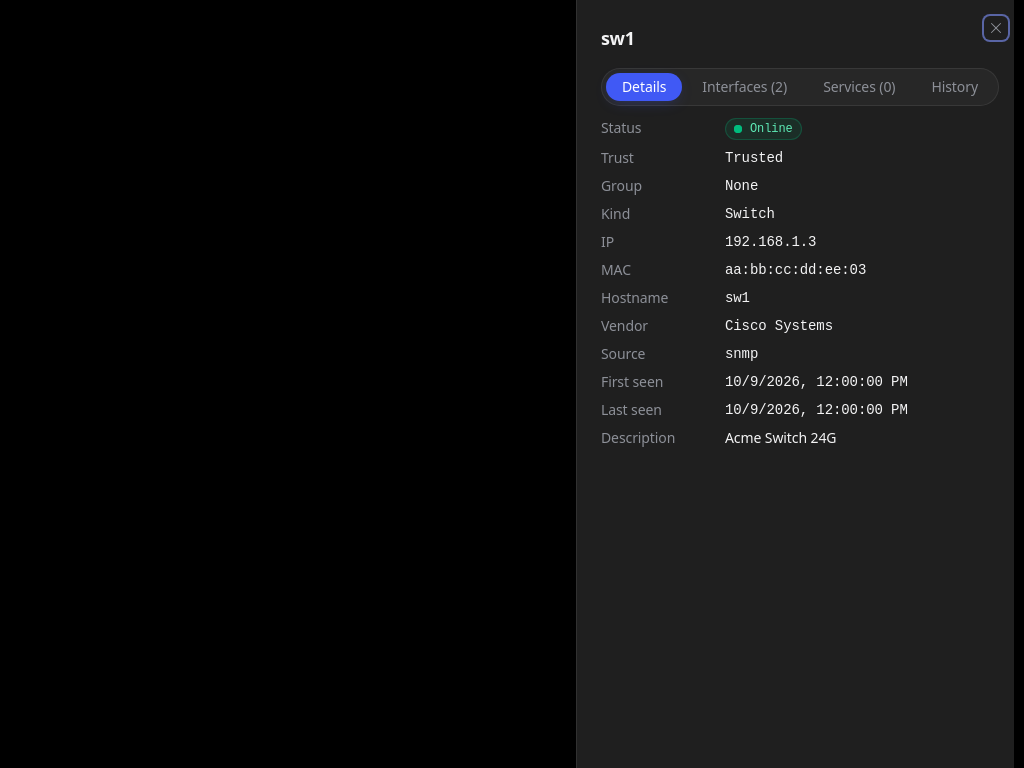
Test: DevicePanel › lists the interfaces with name, MAC, IP and state
The image size is (1024, 768).
Click the tab "Interfaces (2)".
click(745, 87)  # box [686,73,803,101]
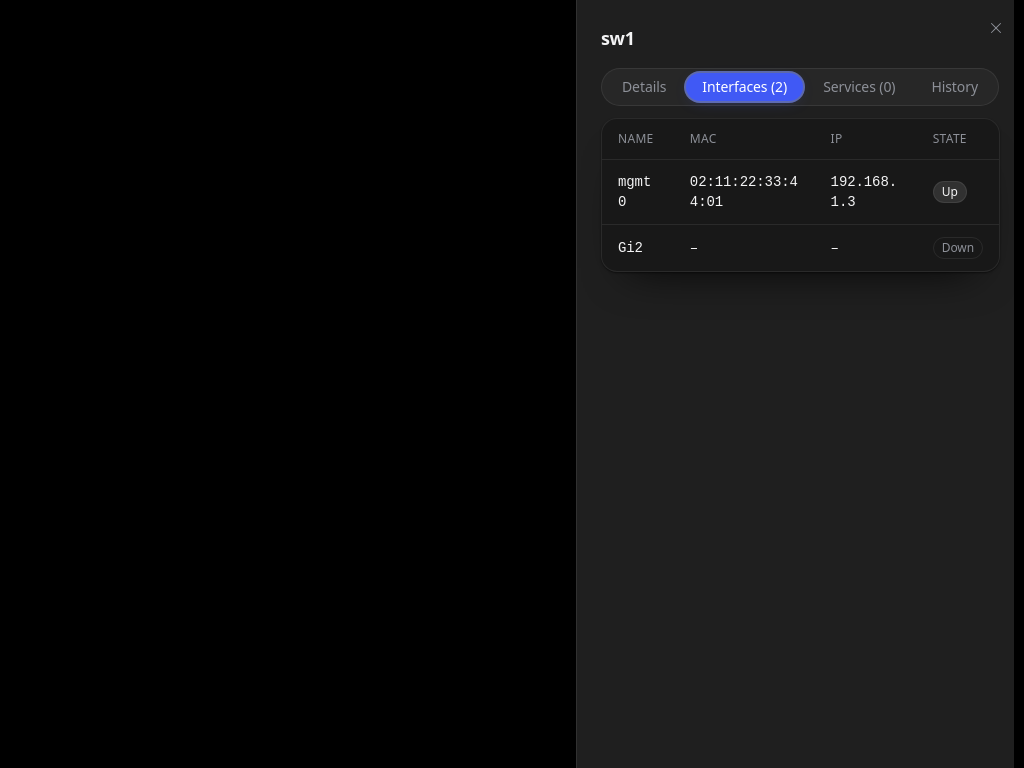
Check: the number of rows is 3, box [602,119,999,160]; [602,160,999,224]; [602,224,999,271]
Check: the text "mgmt0" is shown, box [602,160,674,224]
Check: the text "02:11:22:33:44:01" is shown, box [674,160,815,224]
